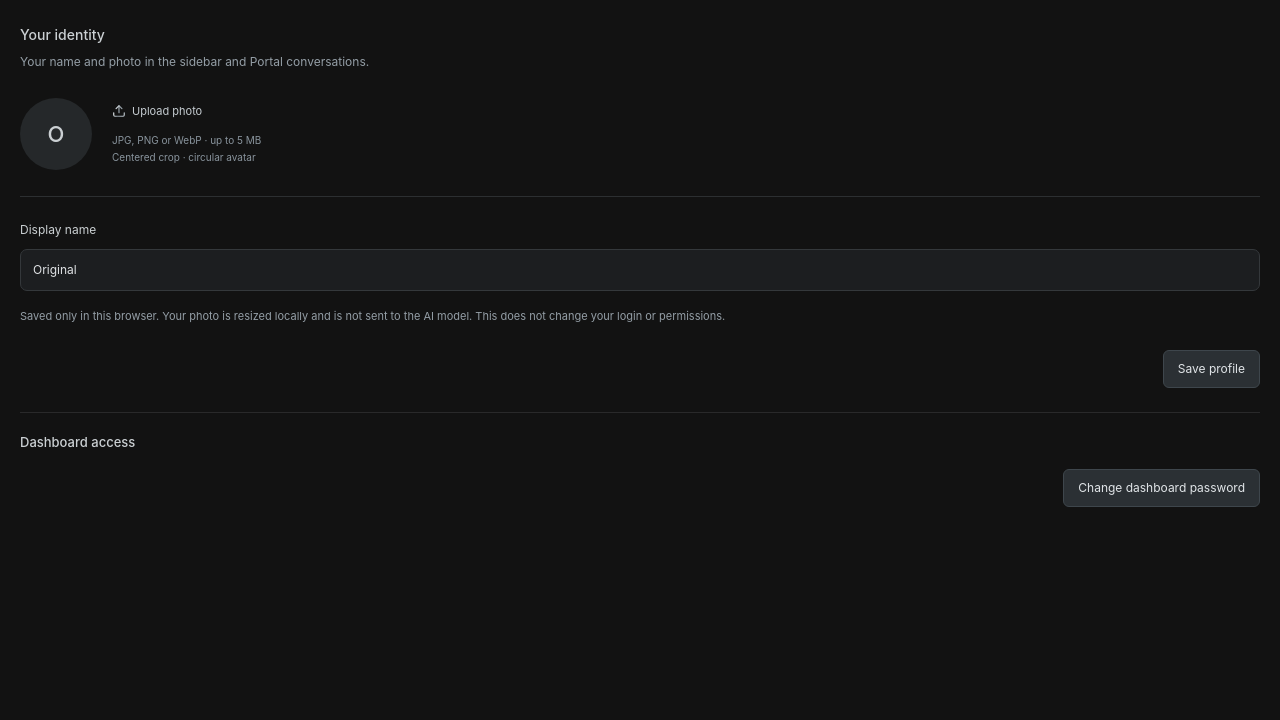
Test: reports persistence failure without claiming success or replacing a saved profile
This screenshot has width=1280, height=720.
Replace the text in the field labelled "Display name" with "New" at point(640, 270), box [20,249,1260,291]
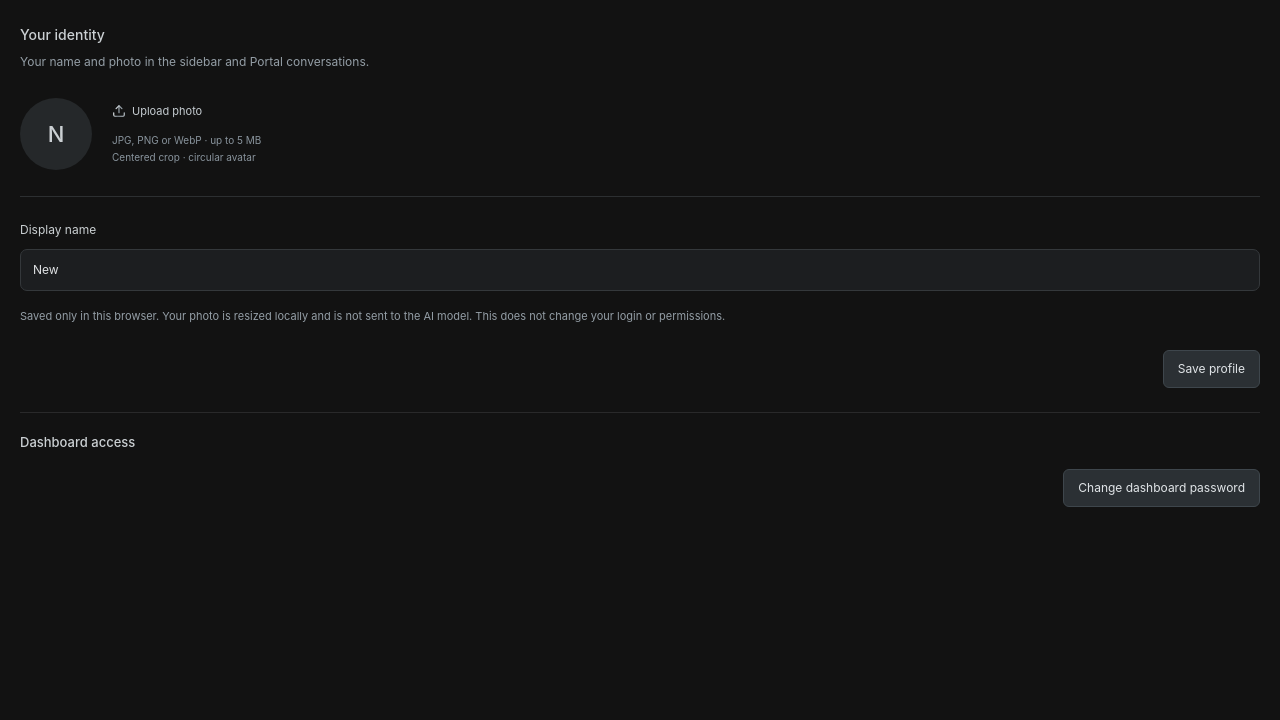
Click the button "Save profile" at point(1211, 369), box [1163,350,1260,388]
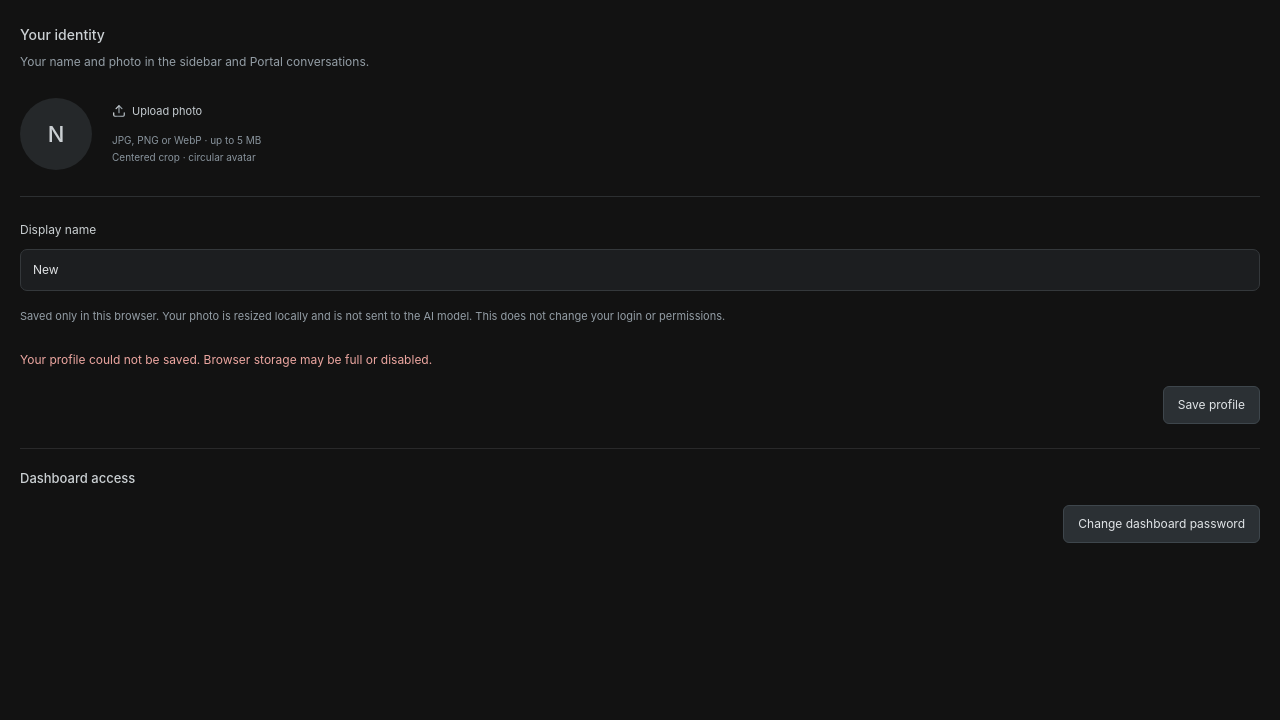
Now the message shows "could not be saved", box [20,352,432,367]
